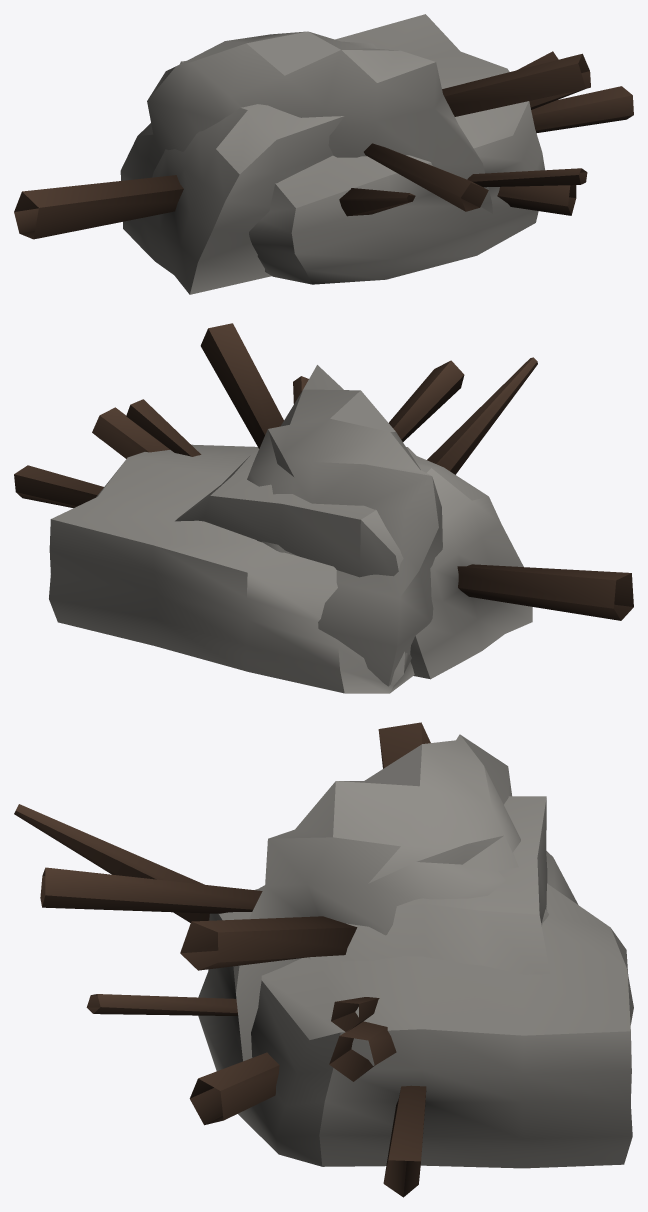
Rendered from rock.rubble.glb.
The picture shows the model from 3 angles, top to bottom: view 1: azimuth 30°, elevation 25°; view 2: azimuth 150°, elevation 25°; view 3: azimuth 270°, elevation 25°; orthographic projection. The views are drawn at different scales.
Parts seen in each view (by area): view 1: v0_LOD0, v1_LOD0, v2_LOD0; view 2: v0_LOD0, v1_LOD0, v2_LOD0; view 3: v0_LOD0, v1_LOD0, v2_LOD0.
Part boxes in pixels (x1,y1,x2,y2): v0_LOD0: (249, 14, 633, 284); v1_LOD0: (120, 31, 590, 213); v2_LOD0: (14, 61, 584, 294); v0_LOD0: (14, 357, 537, 693); v1_LOD0: (126, 323, 464, 686); v2_LOD0: (92, 407, 633, 679); v0_LOD0: (14, 804, 633, 1197); v1_LOD0: (40, 734, 578, 1061); v2_LOD0: (189, 722, 550, 1125).
Size of what is drawn, in the model's own units: 2.06 by 0.6542 by 1.39.
